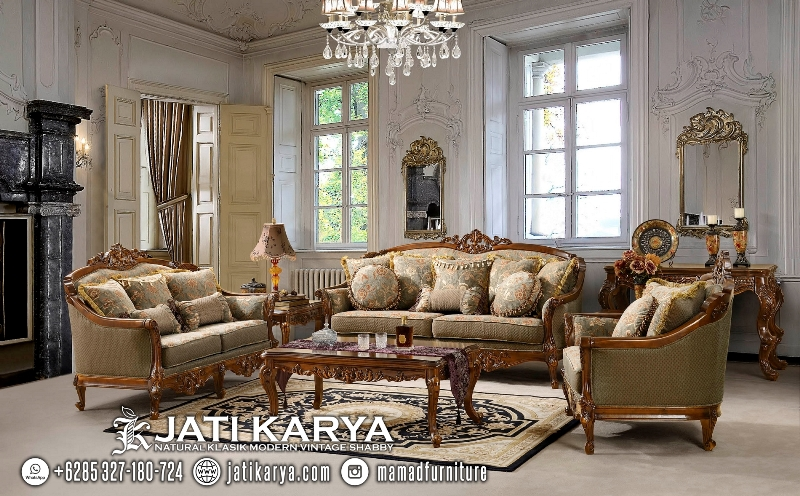Carving Chair: (66, 246, 267, 399), (569, 275, 731, 454), (348, 236, 569, 360)
Carving Table: (262, 339, 489, 443)
